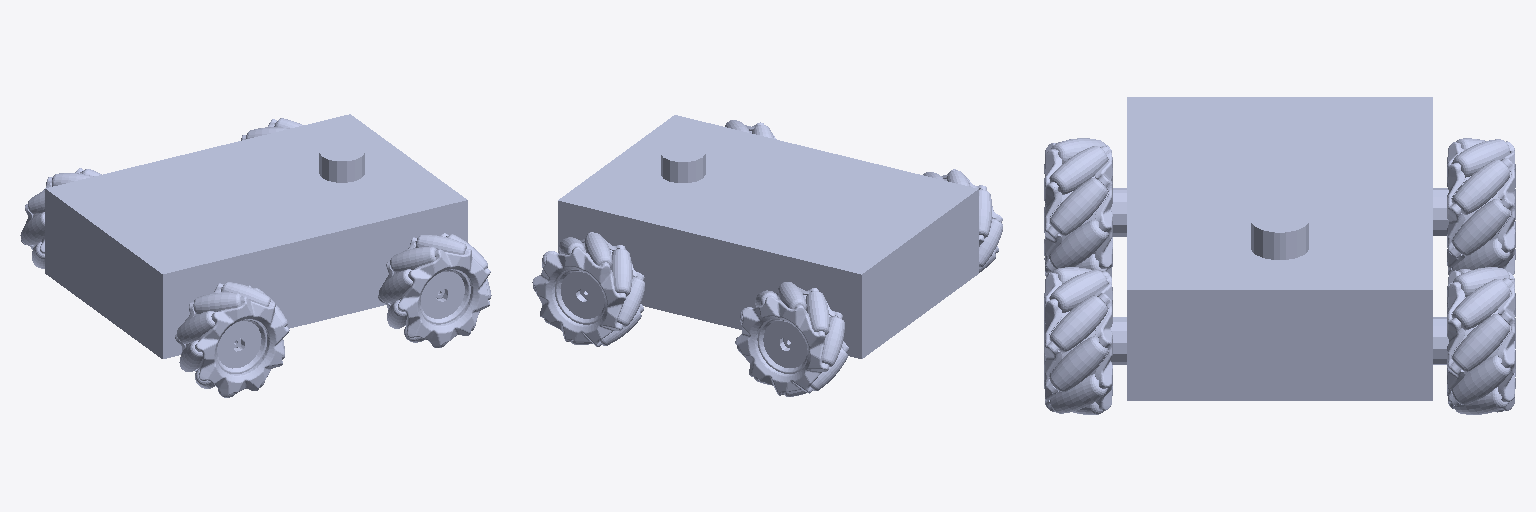
The robot description file, URDF, robot "rosrobot_bilibili":
<?xml version="1.0" encoding="utf-8"?>
<!-- This URDF was automatically created by SolidWorks to URDF Exporter! Originally created by [author] ([email redacted]) 
     Commit Version: 1.6.0-1-g15f4949  Build Version: 1.6.7594.29634
     For more information, please see http://wiki.ros.org/sw_urdf_exporter -->
<robot
  name="rosrobot_bilibili">
  <link
    name="base_link">
    <inertial>
      <origin
        xyz="0.000404559499100898 -6.93889390390723E-18 -0.0400231437836262"
        rpy="0 0 0" />
      <mass
        value="4.8879427280419" />
      <inertia
        ixx="0.0194334376308208"
        ixy="1.15866439034747E-19"
        ixz="-9.89189490756364E-05"
        iyy="0.039465636314607"
        iyz="8.07408940376757E-19"
        izz="0.0536001547015263" />
    </inertial>
    <visual>
      <origin
        xyz="0 0 0"
        rpy="0 0 0" />
      <geometry>
        <mesh
          filename="package://rosrobot_bilibili/meshes/base_link.STL" />
      </geometry>
      <material
        name="">
        <color
          rgba="0.792156862745098 0.819607843137255 0.933333333333333 1" />
      </material>
    </visual>
    <collision>
      <origin
        xyz="0 0 0"
        rpy="0 0 0" />
      <geometry>
        <mesh
          filename="package://rosrobot_bilibili/meshes/base_link.STL" />
      </geometry>
    </collision>
  </link>
  <link
    name="lf_link">
    <inertial>
      <origin
        xyz="3.66600088618635E-06 -7.90696511880629E-06 -3.08609181109282E-06"
        rpy="0 0 0" />
      <mass
        value="0.191673894724463" />
      <inertia
        ixx="0.000136743453502309"
        ixy="1.10083989076847E-08"
        ixz="-1.23805208827599E-09"
        iyy="0.000228149012450796"
        iyz="-1.46355873836897E-09"
        izz="0.000136740356752857" />
    </inertial>
    <visual>
      <origin
        xyz="0 0 0"
        rpy="0 0 0" />
      <geometry>
        <mesh
          filename="package://rosrobot_bilibili/meshes/lf_link.STL" />
      </geometry>
      <material
        name="">
        <color
          rgba="0.792156862745098 0.819607843137255 0.933333333333333 1" />
      </material>
    </visual>
    <collision>
      <origin
        xyz="0 0 0"
        rpy="0 0 0" />
      <geometry>
        <mesh
          filename="package://rosrobot_bilibili/meshes/lf_link.STL" />
      </geometry>
    </collision>
  </link>
  <joint
    name="lf_joint"
    type="continuous">
    <origin
      xyz="0.1 0.132 -0.06"
      rpy="0 0 0" />
    <parent
      link="base_link" />
    <child
      link="lf_link" />
    <axis
      xyz="0 -1 0" />
  </joint>
  <link
    name="lb_link">
    <inertial>
      <origin
        xyz="-1.39516264618944E-06 -7.92708113432627E-06 4.55546081804675E-06"
        rpy="0 0 0" />
      <mass
        value="0.191673963011101" />
      <inertia
        ixx="0.000136741383514031"
        ixy="-8.59415545535199E-09"
        ixz="-1.84197968164498E-09"
        iyy="0.000228149138254218"
        iyz="7.22000504543706E-09"
        izz="0.000136742629834816" />
    </inertial>
    <visual>
      <origin
        xyz="0 0 0"
        rpy="0 0 0" />
      <geometry>
        <mesh
          filename="package://rosrobot_bilibili/meshes/lb_link.STL" />
      </geometry>
      <material
        name="">
        <color
          rgba="0.792156862745098 0.819607843137255 0.933333333333333 1" />
      </material>
    </visual>
    <collision>
      <origin
        xyz="0 0 0"
        rpy="0 0 0" />
      <geometry>
        <mesh
          filename="package://rosrobot_bilibili/meshes/lb_link.STL" />
      </geometry>
    </collision>
  </link>
  <joint
    name="lb_joint"
    type="continuous">
    <origin
      xyz="-0.1 0.132 -0.06"
      rpy="0 0 0" />
    <parent
      link="base_link" />
    <child
      link="lb_link" />
    <axis
      xyz="0 -1 0" />
  </joint>
  <link
    name="rf_link">
    <inertial>
      <origin
        xyz="-3.3846E-06 7.9073E-06 -3.386E-06"
        rpy="0 0 0" />
      <mass
        value="0.19167" />
      <inertia
        ixx="0.00013674"
        ixy="1.0643E-08"
        ixz="1.612E-09"
        iyy="0.00022815"
        iyz="2.3614E-09"
        izz="0.00013674" />
    </inertial>
    <visual>
      <origin
        xyz="0 0 0"
        rpy="0 0 0" />
      <geometry>
        <mesh
          filename="package://rosrobot_bilibili/meshes/rf_link.STL" />
      </geometry>
      <material
        name="">
        <color
          rgba="0.79216 0.81961 0.93333 1" />
      </material>
    </visual>
    <collision>
      <origin
        xyz="0 0 0"
        rpy="0 0 0" />
      <geometry>
        <mesh
          filename="package://rosrobot_bilibili/meshes/rf_link.STL" />
      </geometry>
    </collision>
  </link>
  <joint
    name="rf_joint"
    type="continuous">
    <origin
      xyz="0.1 -0.132 -0.06"
      rpy="0 0 0" />
    <parent
      link="base_link" />
    <child
      link="rf_link" />
    <axis
      xyz="0 -1 0" />
  </joint>
  <link
    name="rb_link">
    <inertial>
      <origin
        xyz="-1.39515930830392E-06 7.92708379149243E-06 -4.55546353856154E-06"
        rpy="0 0 0" />
      <mass
        value="0.191673963001509" />
      <inertia
        ixx="0.000136741383513276"
        ixy="8.59417853689208E-09"
        ixz="1.84197884383935E-09"
        iyy="0.000228149138233718"
        iyz="7.21998993944278E-09"
        izz="0.000136742629808743" />
    </inertial>
    <visual>
      <origin
        xyz="0 0 0"
        rpy="0 0 0" />
      <geometry>
        <mesh
          filename="package://rosrobot_bilibili/meshes/rb_link.STL" />
      </geometry>
      <material
        name="">
        <color
          rgba="0.792156862745098 0.819607843137255 0.933333333333333 1" />
      </material>
    </visual>
    <collision>
      <origin
        xyz="0 0 0"
        rpy="0 0 0" />
      <geometry>
        <mesh
          filename="package://rosrobot_bilibili/meshes/rb_link.STL" />
      </geometry>
    </collision>
  </link>
  <joint
    name="rb_joint"
    type="continuous">
    <origin
      xyz="-0.1 -0.132 -0.06"
      rpy="0 0 0" />
    <parent
      link="base_link" />
    <child
      link="rb_link" />
    <axis
      xyz="0 -1 0" />
  </joint>
  <link
    name="lidar_link">
    <inertial>
      <origin
        xyz="0 0 0"
        rpy="0 0 0" />
      <mass
        value="0" />
      <inertia
        ixx="0"
        ixy="0"
        ixz="0"
        iyy="0"
        iyz="0"
        izz="0" />
    </inertial>
    <visual>
      <origin
        xyz="0 0 0"
        rpy="0 0 0" />
      <geometry>
        <mesh
          filename="package://rosrobot_bilibili/meshes/lidar_link.STL" />
      </geometry>
      <material
        name="">
        <color
          rgba="1 1 1 1" />
      </material>
    </visual>
    <collision>
      <origin
        xyz="0 0 0"
        rpy="0 0 0" />
      <geometry>
        <mesh
          filename="package://rosrobot_bilibili/meshes/lidar_link.STL" />
      </geometry>
    </collision>
  </link>
  <joint
    name="lidar_joint"
    type="continuous">
    <origin
      xyz="0.084110111850432 0 0.02"
      rpy="0 0 0" />
    <parent
      link="base_link" />
    <child
      link="lidar_link" />
    <axis
      xyz="0 0 1" />
  </joint>
</robot>

--- What the picture shows (computed from the rendered views, not written in the file) ---
Views: 3 orthographic renders of the robot side by side, from view 1: azimuth 30°, elevation 25°; view 2: azimuth 150°, elevation 25°; view 3: azimuth 270°, elevation 25°.
Robot: rosrobot_bilibili — 6 links, 5 joints (5 continuous); root link base_link; default pose: all joints at 0.
Visible links, largest first — view 1: base_link, rf_link, rb_link, lb_link; view 2: base_link, lf_link, lb_link, rb_link; view 3: base_link, rf_link, lf_link, lb_link, rb_link.
Link boxes in pixels (x1,y1,x2,y2): base_link: (45,114,467,358); rf_link: (378,233,491,347); rb_link: (175,282,289,397); lb_link: (20,168,101,268); base_link: (558,115,978,358); lf_link: (532,232,644,346); lb_link: (735,282,848,396); rb_link: (923,169,1002,272); base_link: (1111,97,1448,400); rf_link: (1044,267,1112,414); lf_link: (1447,267,1515,414); lb_link: (1447,138,1515,274); rb_link: (1044,138,1112,276).
Bounding box of the posed robot: 0.3 × 0.3089 × 0.1286 m (x, y, z).
5 mesh visuals loaded from 6 distinct referenced files (5 binary STL); not drawn: 1 (reference not matched to a file when rendering).